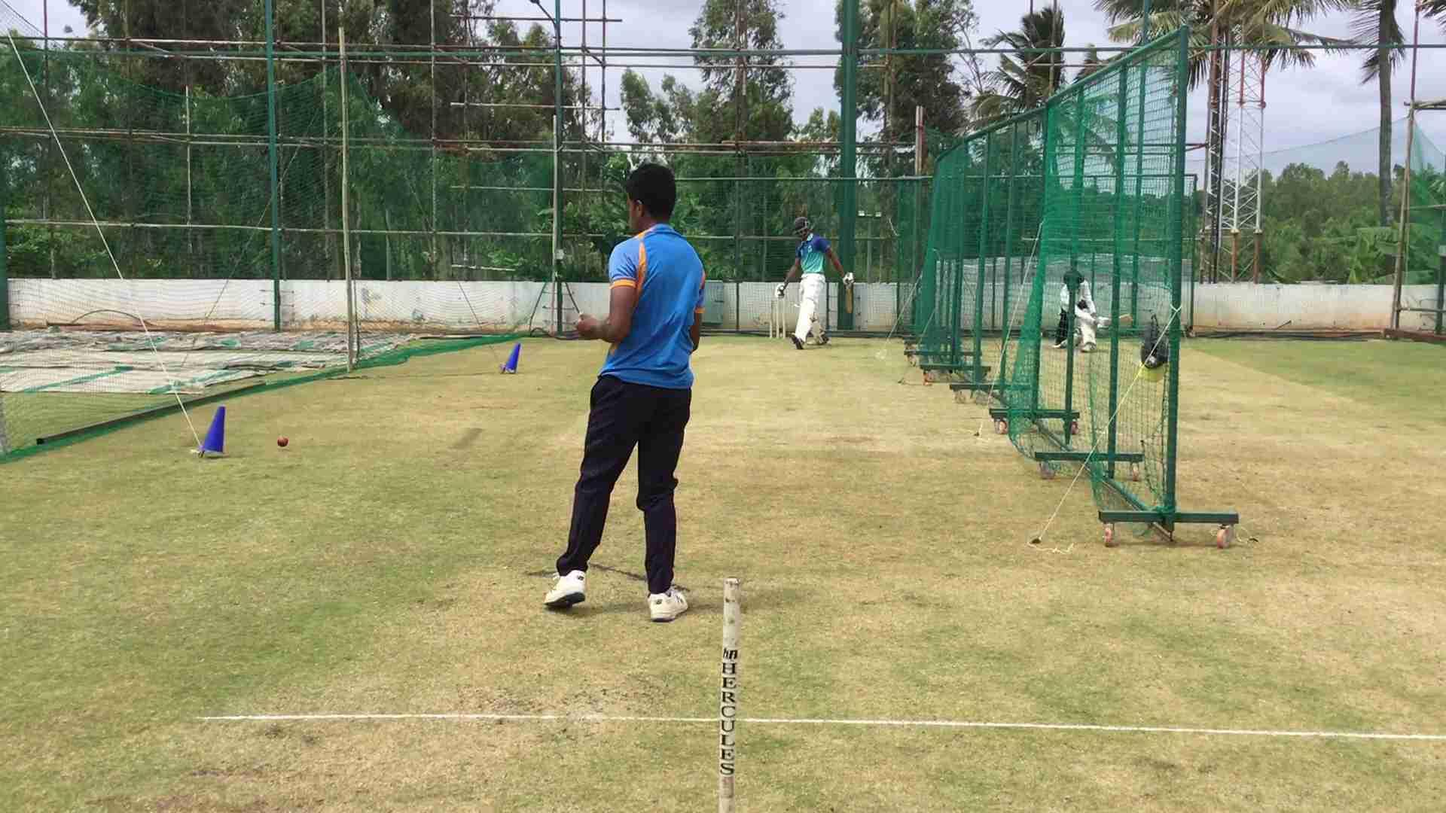batsman: (771, 208, 856, 353)
